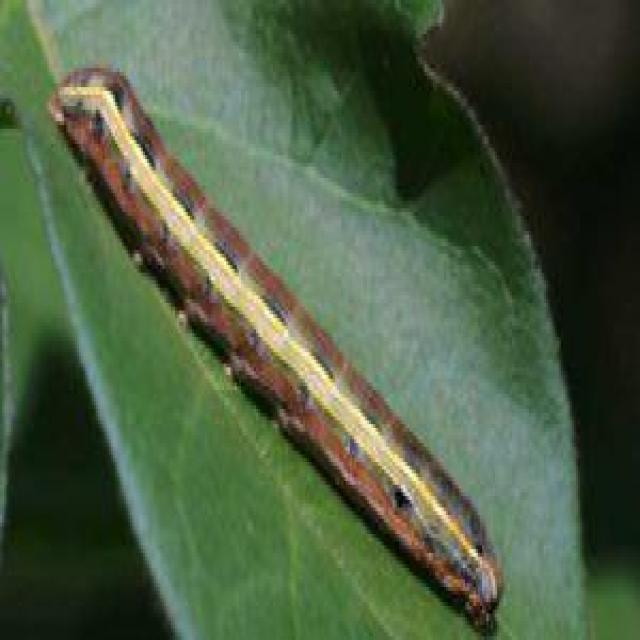BeetArmyWorm-Larva-: (47, 55, 507, 622)
